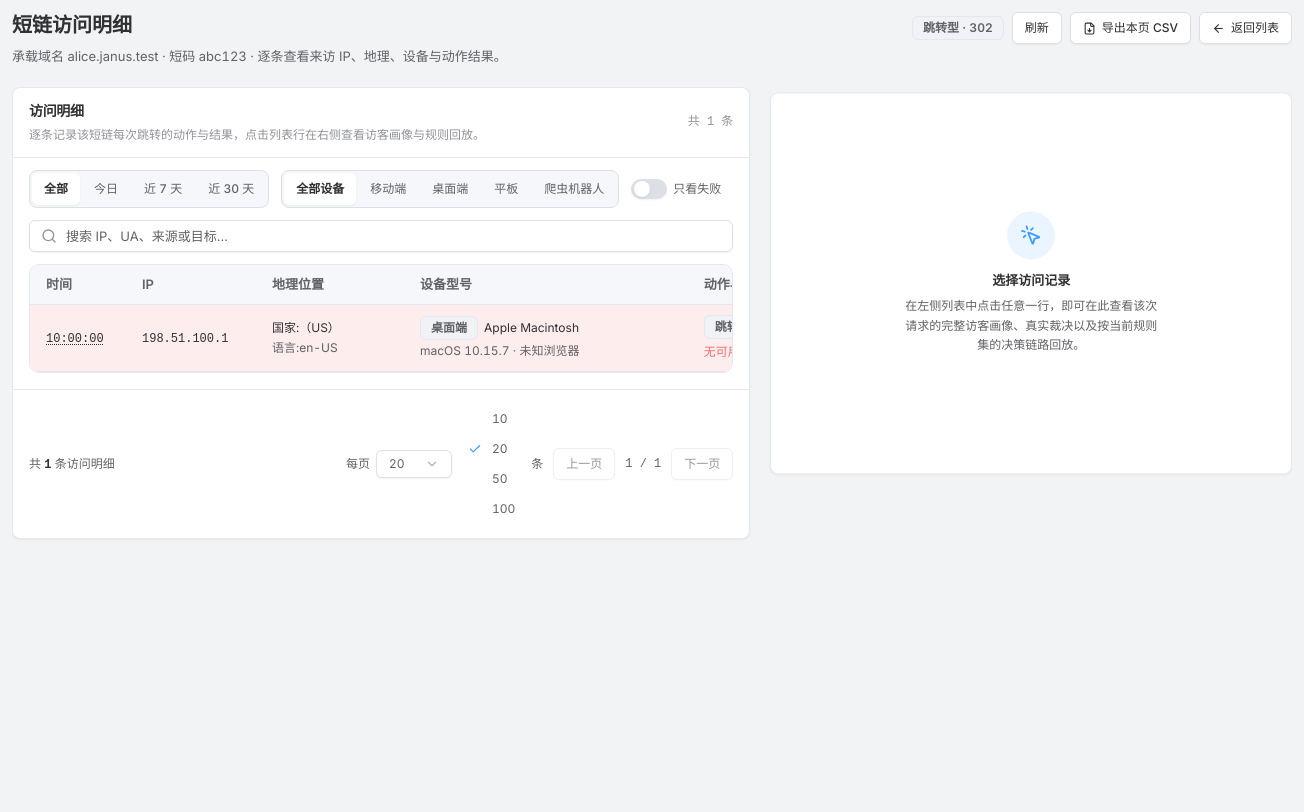
Test: LinkVisitsView「只看失败」 › Given 快速连续切换只看失败, Then 过期响应不覆盖最后一次请求的结果
Click the switch named "只看失败".
click(649, 189)  # box [631, 179, 667, 199]
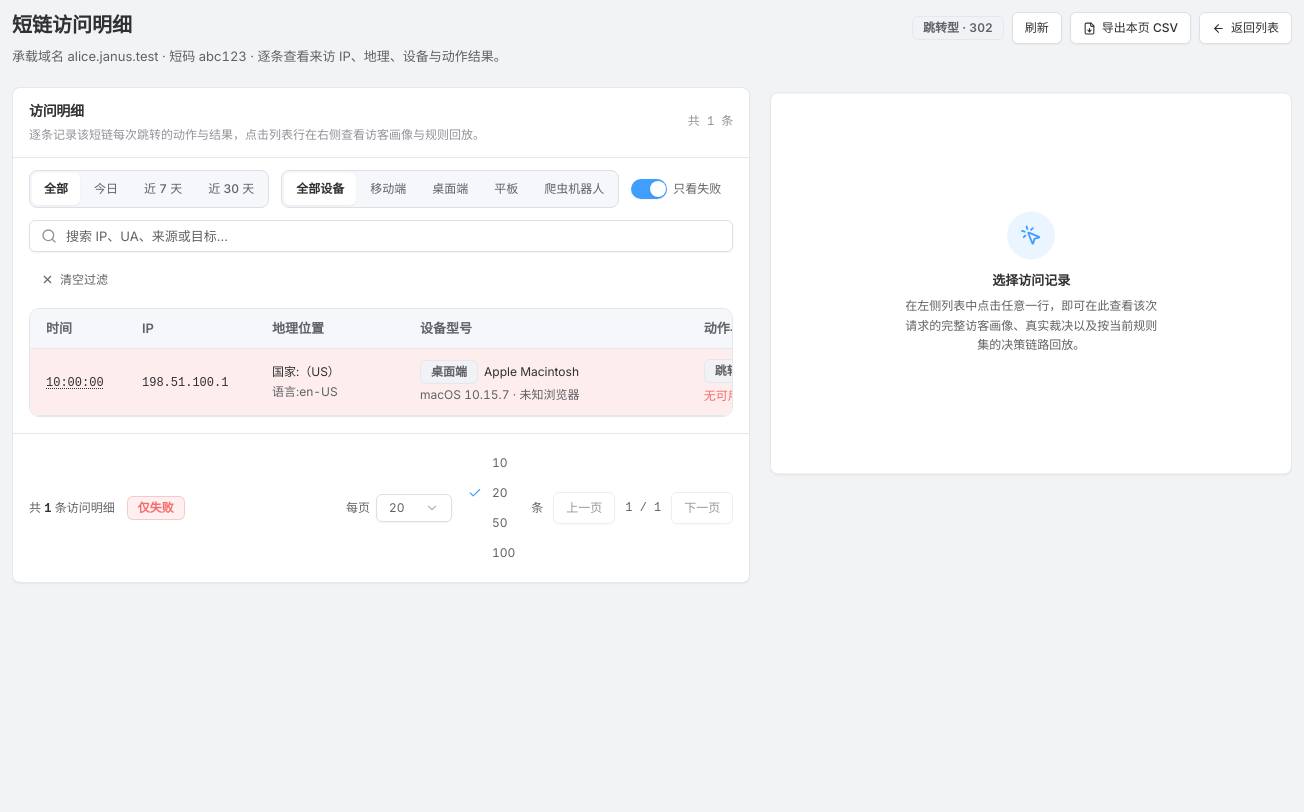
Click the switch named "只看失败".
click(649, 189)  # box [631, 179, 667, 199]
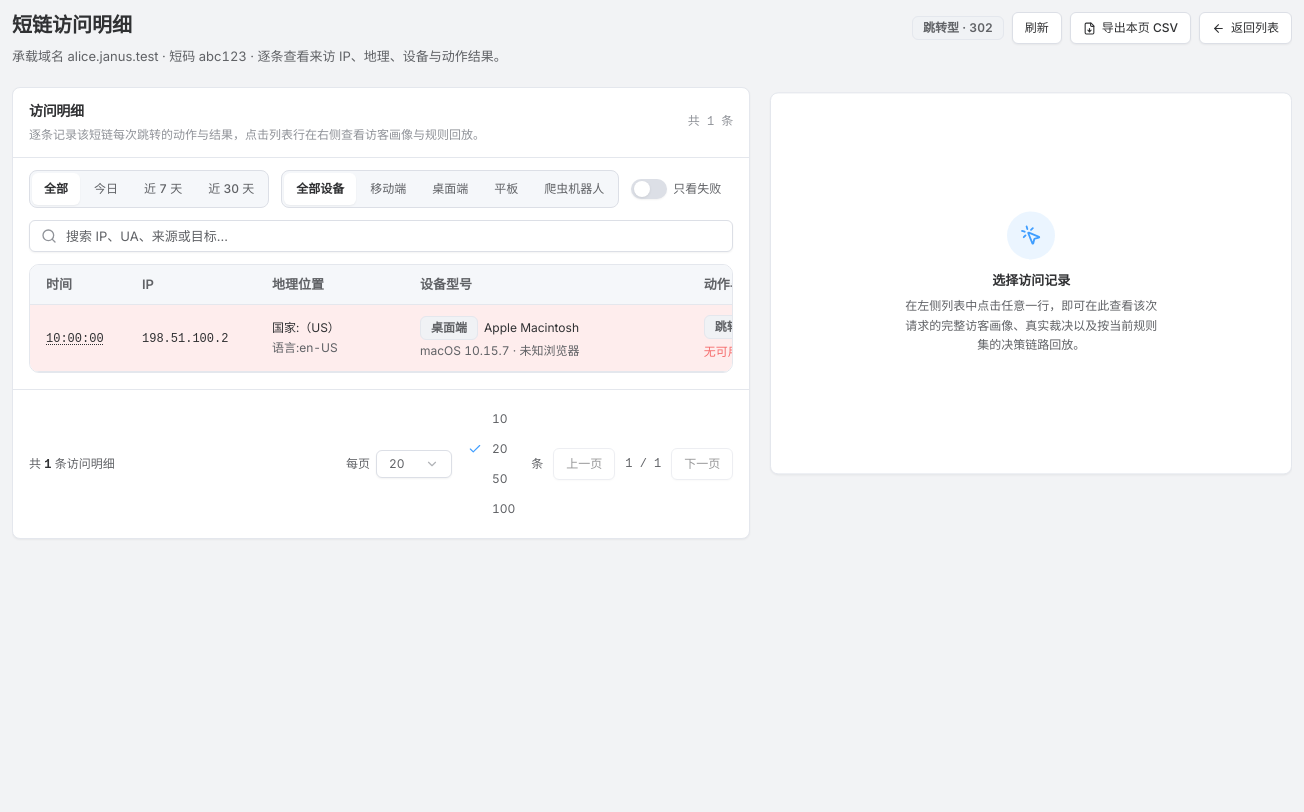
Expected: the text "198.51.100.2" is shown, [142, 332, 228, 346]
